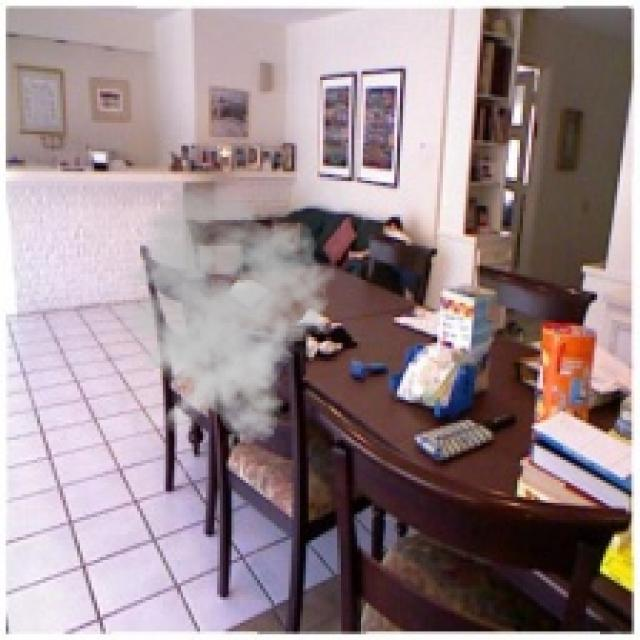smoke: (100, 186, 343, 446)
